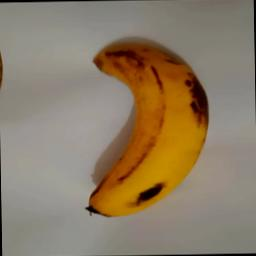Banana Unripe: (88, 42, 212, 216)
